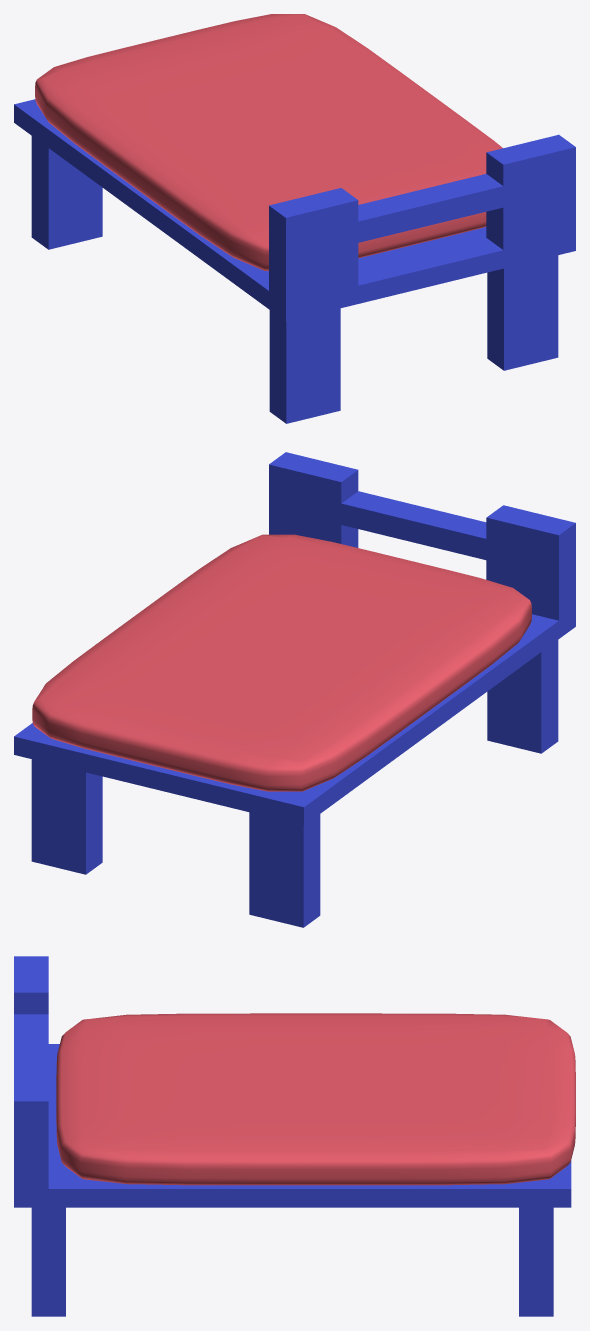
Rendered from Bed1UV.fbx.
3 renders of one model, top to bottom at view 1: azimuth 30°, elevation 25°; view 2: azimuth 150°, elevation 25°; view 3: azimuth 270°, elevation 25°, orthographic. The views are drawn at different scales.
Parts seen in each view (by area): view 1: Cube.019, Cube.018; view 2: Cube.019, Cube.018; view 3: Cube.019, Cube.018.
Part boxes in pixels (x1=…): Cube.019: x1=35, y1=14, x2=502, y2=270; Cube.018: x1=14, y1=99, x2=575, y2=423; Cube.019: x1=32, y1=534, x2=531, y2=791; Cube.018: x1=14, y1=452, x2=575, y2=927; Cube.019: x1=56, y1=1013, x2=575, y2=1185; Cube.018: x1=14, y1=956, x2=571, y2=1316.
Size of the model in its own units: 185 by 127 by 295.
